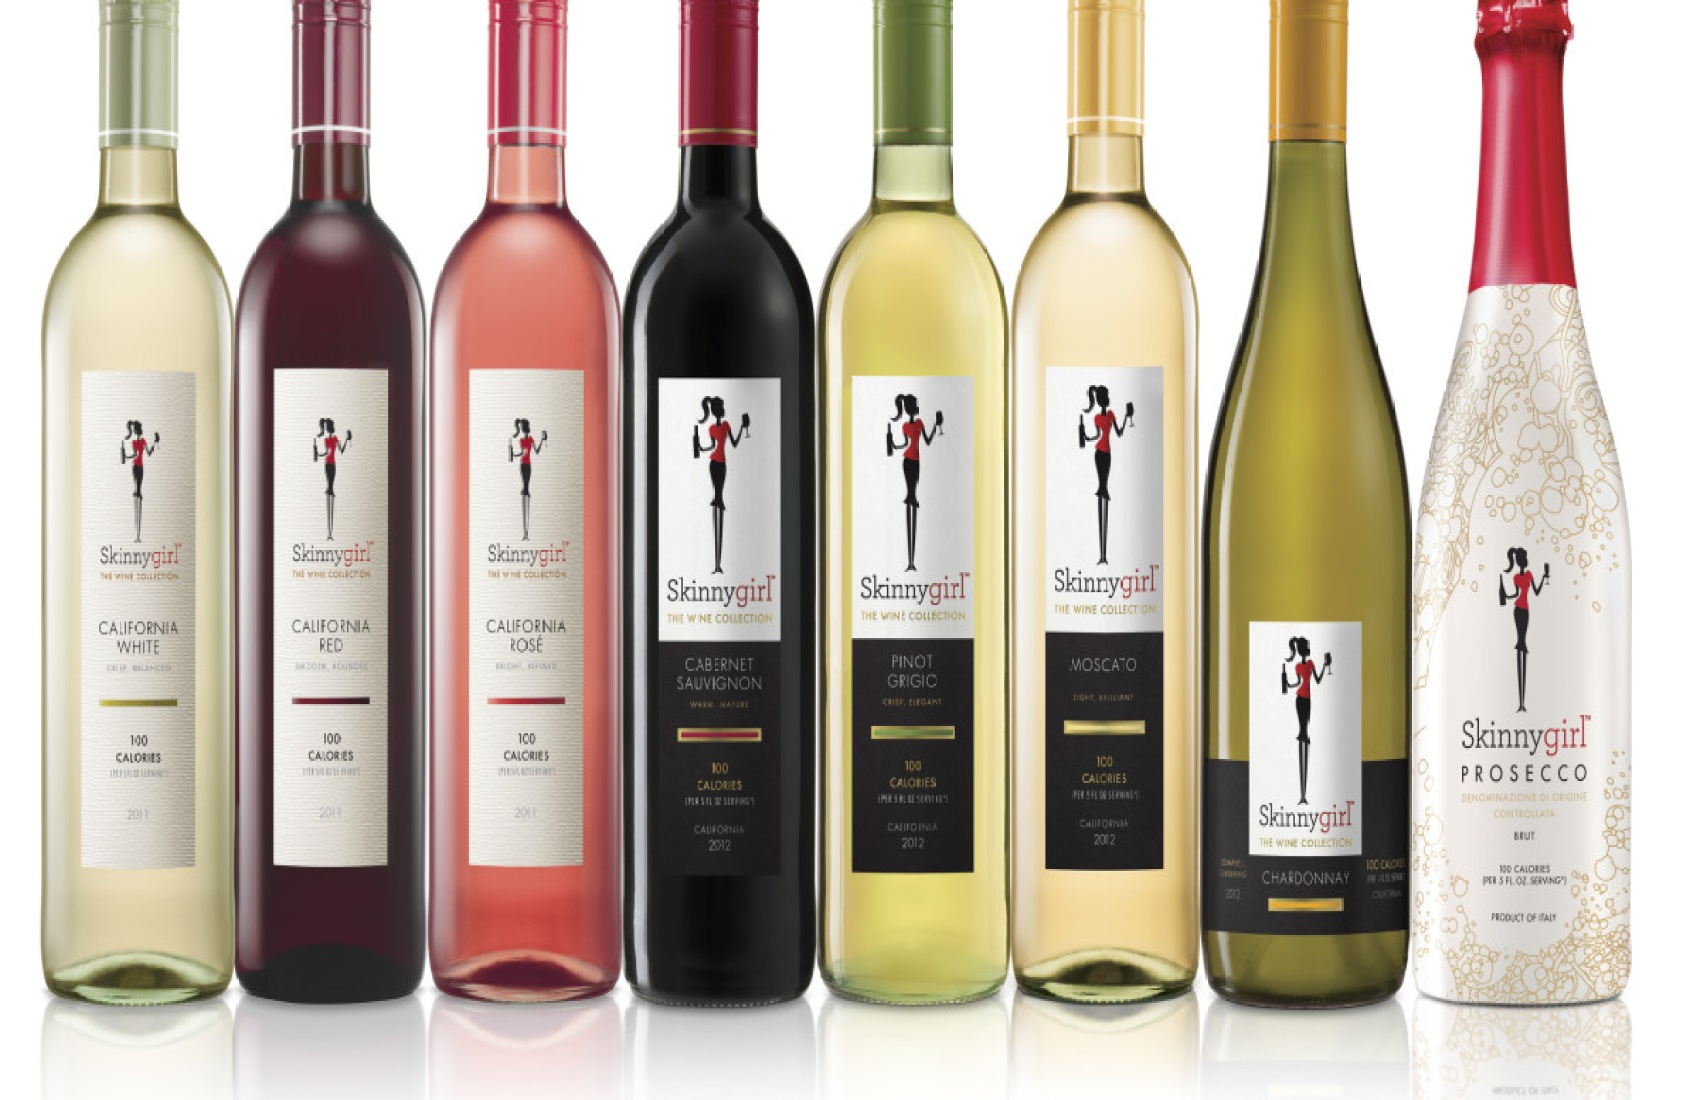wine: (1401, 1, 1621, 1007), (1207, 2, 1406, 1007), (620, 1, 813, 1001), (228, 19, 418, 1010), (431, 16, 622, 997), (35, 20, 222, 1010), (818, 9, 1002, 992), (1007, 19, 1191, 1002)
